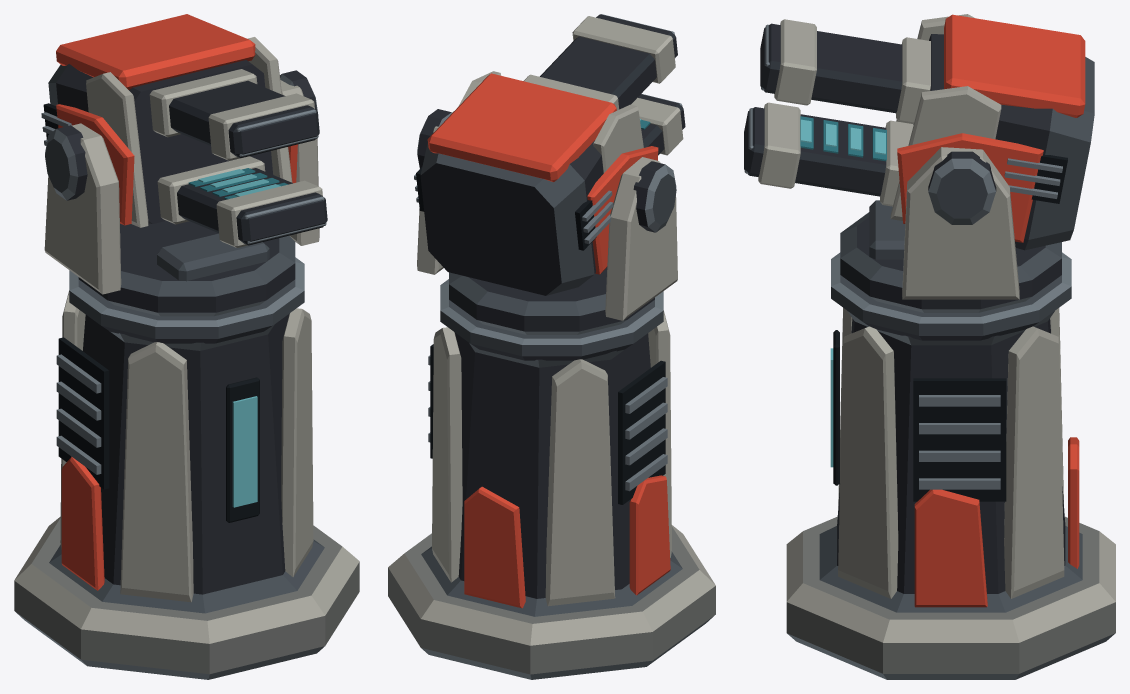
Rendered from lv4_balistique.glb.
The picture shows the model from 3 angles, left to right: view 1: azimuth 30°, elevation 25°; view 2: azimuth 150°, elevation 25°; view 3: azimuth 270°, elevation 25°; orthographic projection. The views are drawn at different scales.
Visible parts, largest first — view 1: Base, Barrel_Recoil, Turret_Yaw, Team_Panels, Base_TeamColor; view 2: Base, Barrel_Recoil, Turret_Yaw, Team_Panels, Base_TeamColor; view 3: Base, Barrel_Recoil, Turret_Yaw, Team_Panels, Base_TeamColor.
Boxes of the visible parts, x1,y1,x2,y2 form: Base: (14, 257, 359, 679); Barrel_Recoil: (41, 37, 327, 247); Turret_Yaw: (44, 70, 319, 316); Team_Panels: (56, 14, 297, 225); Base_TeamColor: (61, 456, 104, 590); Base: (388, 279, 715, 679); Barrel_Recoil: (414, 14, 685, 295); Turret_Yaw: (417, 109, 677, 334); Team_Panels: (427, 73, 658, 274); Base_TeamColor: (464, 475, 670, 608); Base: (786, 252, 1115, 679); Barrel_Recoil: (744, 14, 1094, 250); Turret_Yaw: (840, 147, 1061, 312); Team_Panels: (897, 14, 1085, 242); Base_TeamColor: (914, 437, 1079, 607).
Bounding box in the file's own units: 1.82 × 3.5 × 2.06.
